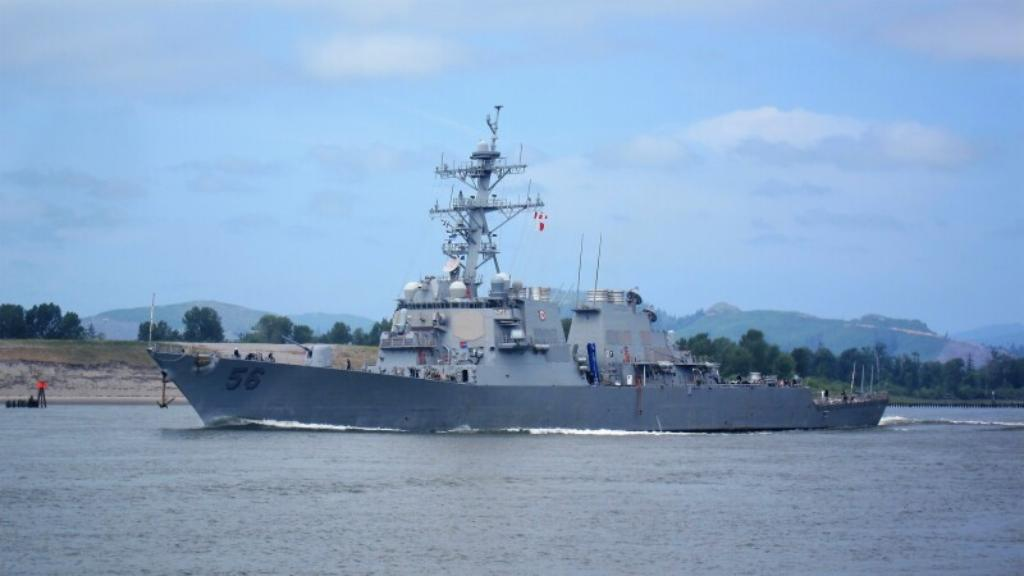Warship: (145, 96, 893, 432)
